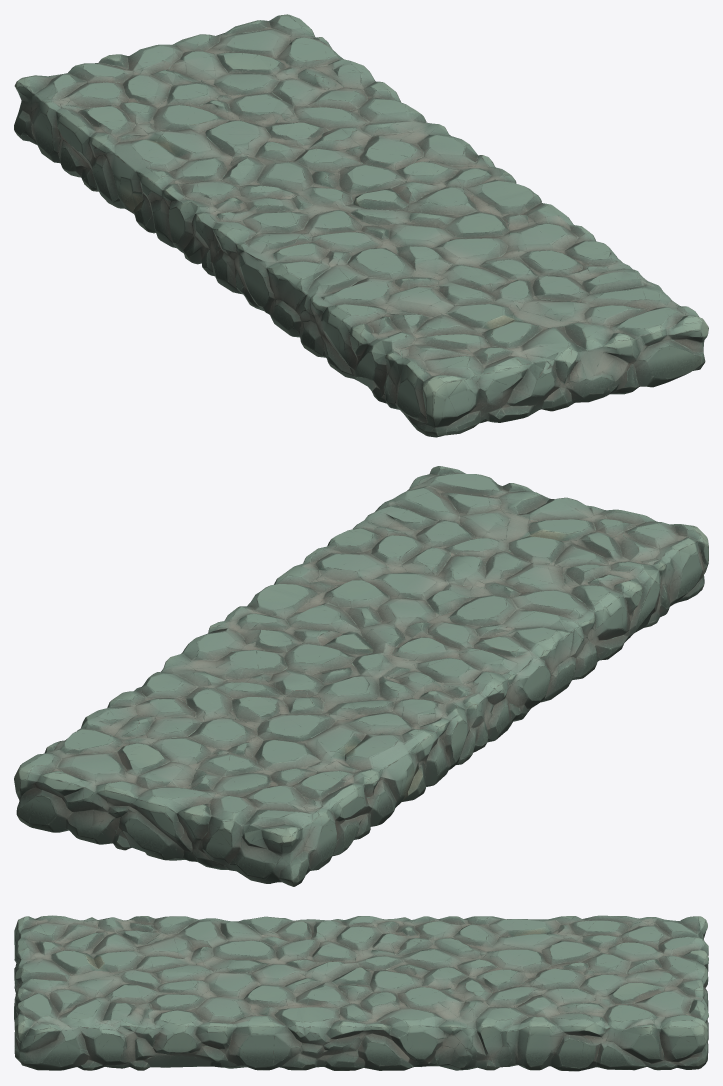
The model's file is Platform 08.fbx.
3 renders of one model, top to bottom at view 1: azimuth 30°, elevation 25°; view 2: azimuth 150°, elevation 25°; view 3: azimuth 270°, elevation 25°, orthographic. The views are drawn at different scales.
Visible parts, largest first — view 1: Platform.008; view 2: Platform.008; view 3: Platform.008.
Boxes of the visible parts, x1,y1,x2,y2 form: Platform.008: (14,14,708,437); Platform.008: (14,466,708,886); Platform.008: (14,915,708,1071).
Size of the model in its own units: 636 by 134 by 1632.
1 material, 1 textured.
